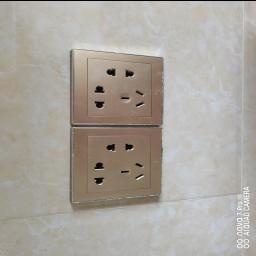outlet: (68, 44, 168, 124), (68, 126, 164, 204)
